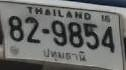letters: (51, 20, 68, 47), (83, 23, 100, 50), (8, 16, 25, 42), (25, 16, 41, 43), (68, 22, 84, 48), (101, 27, 115, 53)
province: (43, 48, 86, 61)
